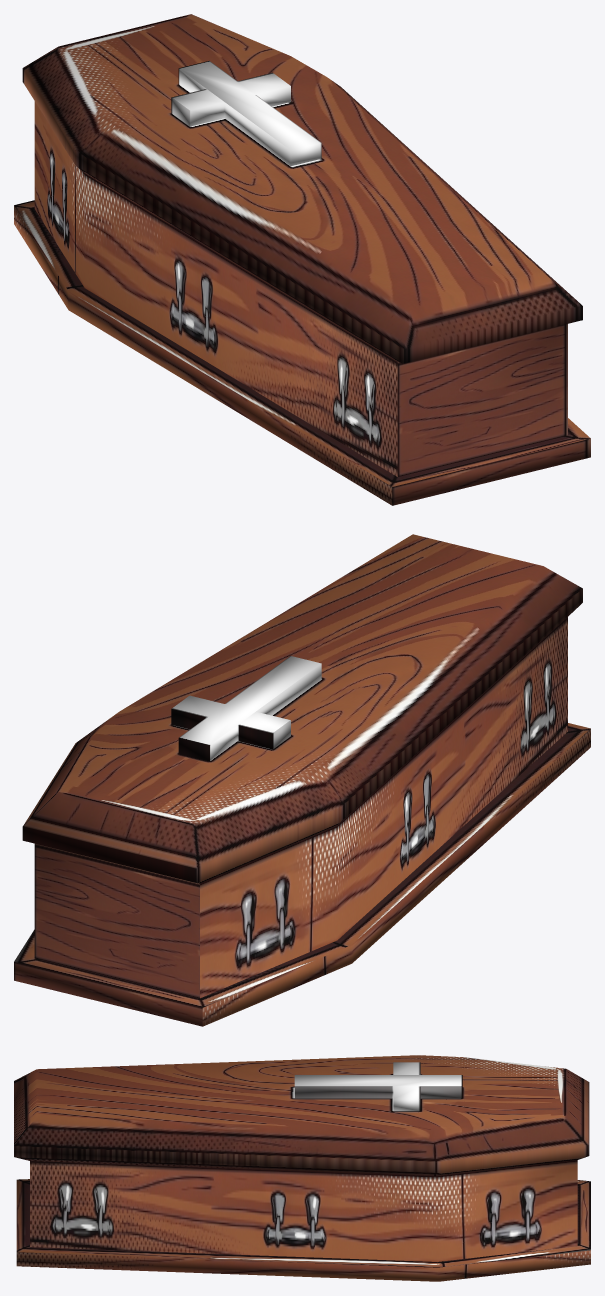
Rendered from Coffin.fbx.
3 views of the same model, one above another, from view 1: azimuth 30°, elevation 25°; view 2: azimuth 150°, elevation 25°; view 3: azimuth 270°, elevation 25° (orthographic). The views are drawn at different scales.
Parts seen in each view (by area): view 1: Coffin; view 2: Coffin; view 3: Coffin.
Boxes of the visible parts, left/top/right/bottom form: Coffin: left=14, top=14, right=590, bottom=505; Coffin: left=14, top=534, right=590, bottom=1026; Coffin: left=14, top=1055, right=590, bottom=1281.
Size of the model in its own units: 322 by 758 by 216.
Materials: 1 (1 with a texture image).
